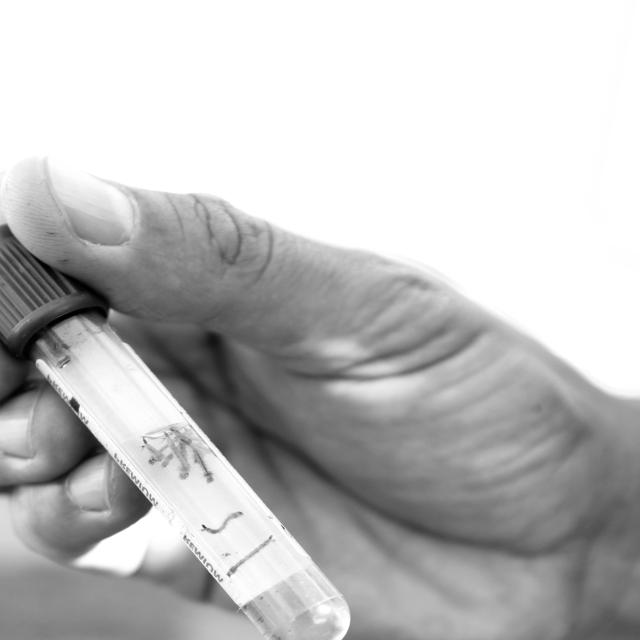larvas: (171, 423, 217, 488), (225, 531, 276, 579), (164, 433, 193, 481), (202, 512, 244, 533), (143, 442, 165, 460), (162, 454, 172, 468), (149, 459, 157, 466)
